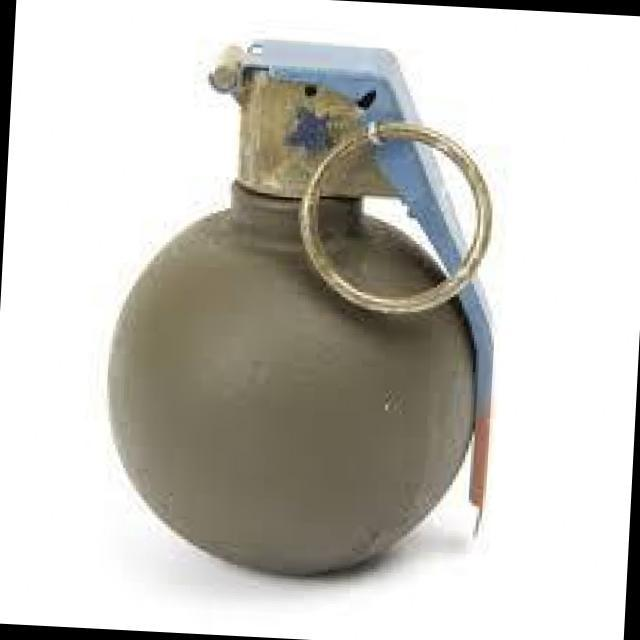grenade: (91, 26, 508, 584)
